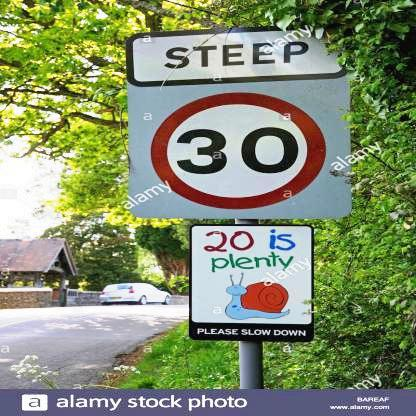Speed Limit -30-: (146, 90, 327, 214)
